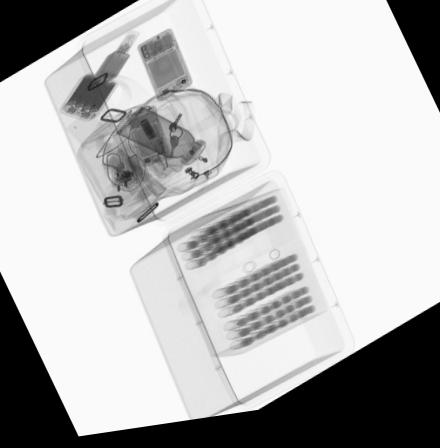Powerbank: (58, 75, 118, 124)
